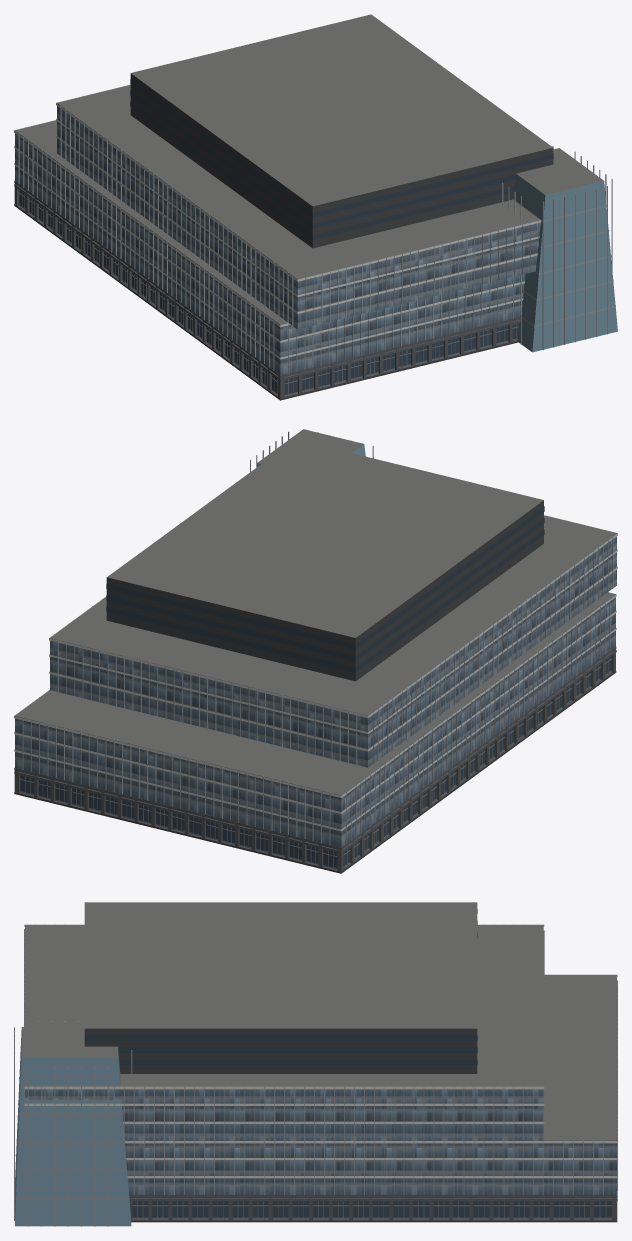
Rendered from convention_center_summit.glb.
3 renders of one model, top to bottom at view 1: azimuth 30°, elevation 25°; view 2: azimuth 150°, elevation 25°; view 3: azimuth 270°, elevation 25°, orthographic. The views are drawn at different scales.
Parts seen in each view (by area): view 1: convention_center_summit; view 2: convention_center_summit; view 3: convention_center_summit.
Part boxes in pixels (x1=…): convention_center_summit: x1=14, y1=14, x2=617, y2=400; convention_center_summit: x1=14, y1=429, x2=617, y2=873; convention_center_summit: x1=14, y1=902, x2=617, y2=1226.
Size of the model in its own units: 122 by 59.99 by 182.
2 materials, 2 textured.
